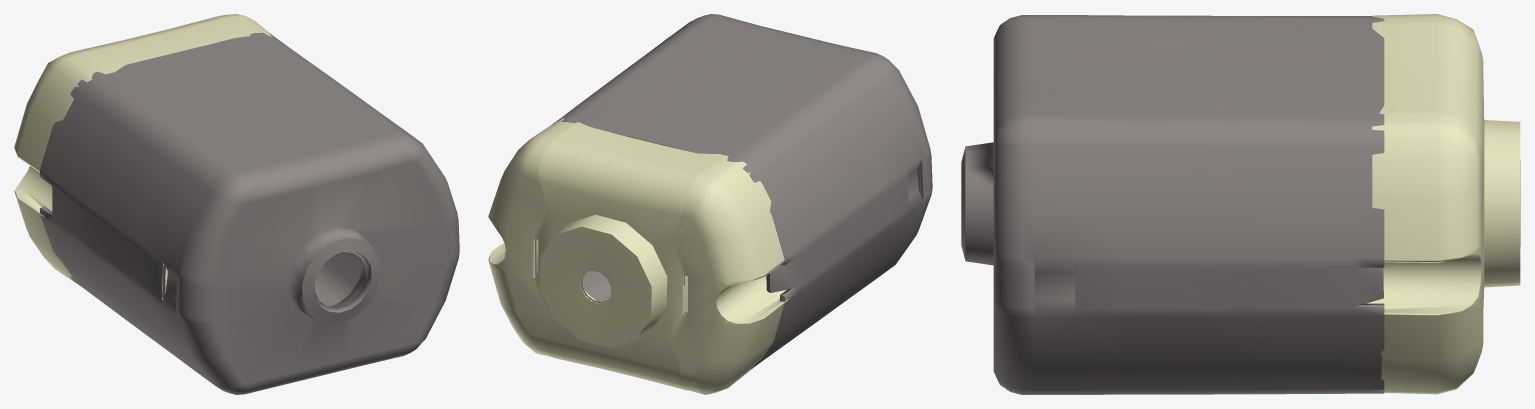
File: Stator.fbx
3 views of the same model, side by side, from view 1: azimuth 30°, elevation 25°; view 2: azimuth 150°, elevation 25°; view 3: azimuth 270°, elevation 25° (orthographic). The views are drawn at different scales.
Parts seen in each view (by area): view 1: Cover1; view 2: Cover1; view 3: Cover1.
Boxes of the visible parts, box(x1,y1,x2,y2) form: Cover1: box(14, 14, 459, 394); Cover1: box(488, 14, 932, 394); Cover1: box(961, 14, 1520, 394).
Bounding box in the file's own units: 63.49 × 47.93 × 88.05.
